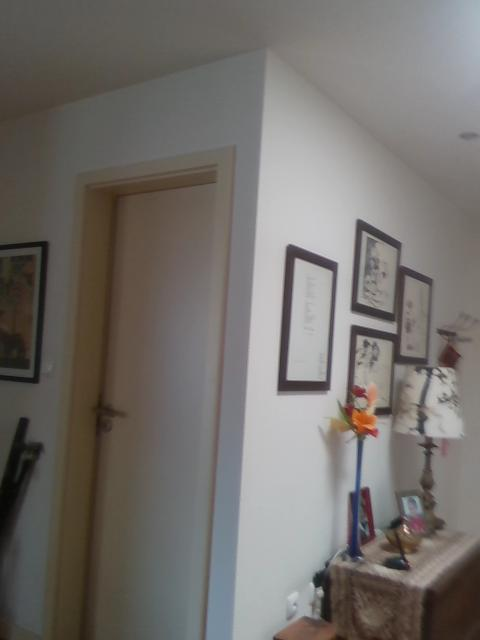door: (85, 181, 210, 640)
